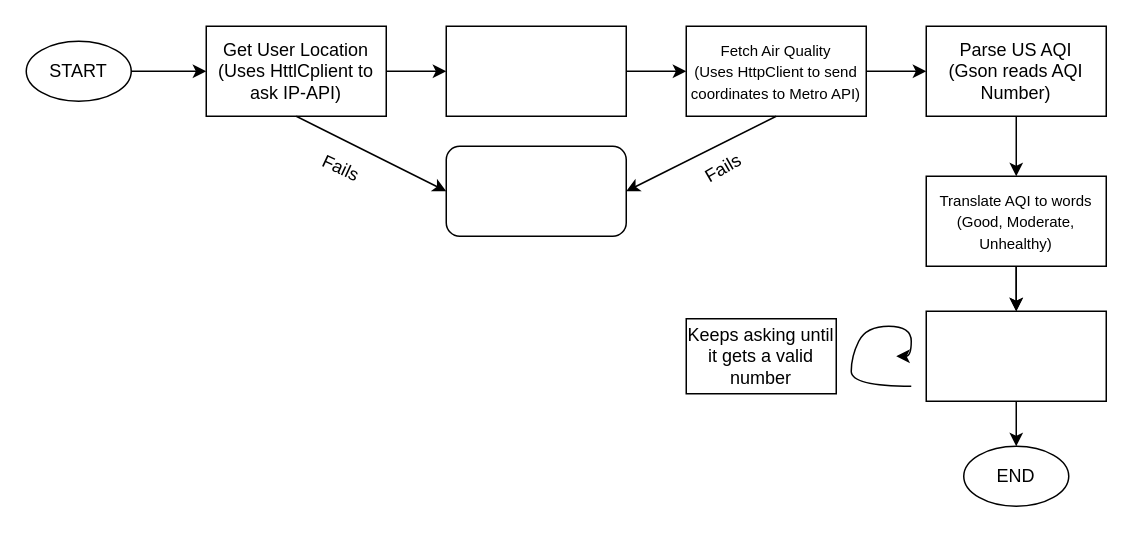
This 1133x533 diagram has some shape labels left out. Each missing label, with the centre of its shape:
"Ask for Warning level (IO.readln, 0 - 500)" belongs at point 1015,355.
"Parse Coordinates (Gson reads the longitude and latitude)" belongs at point 535,70.
"Shows Error and ends the program" belongs at point 535,190.
